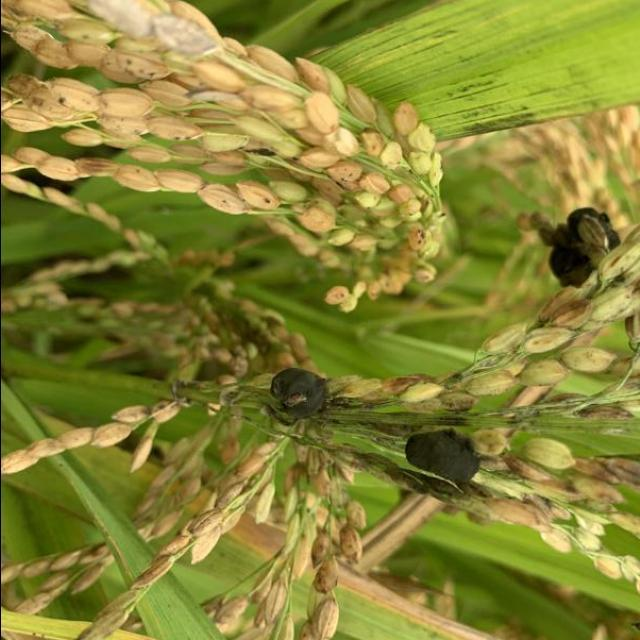Leaf_Scald: (548, 206, 620, 292), (403, 426, 483, 501), (267, 363, 333, 424)
